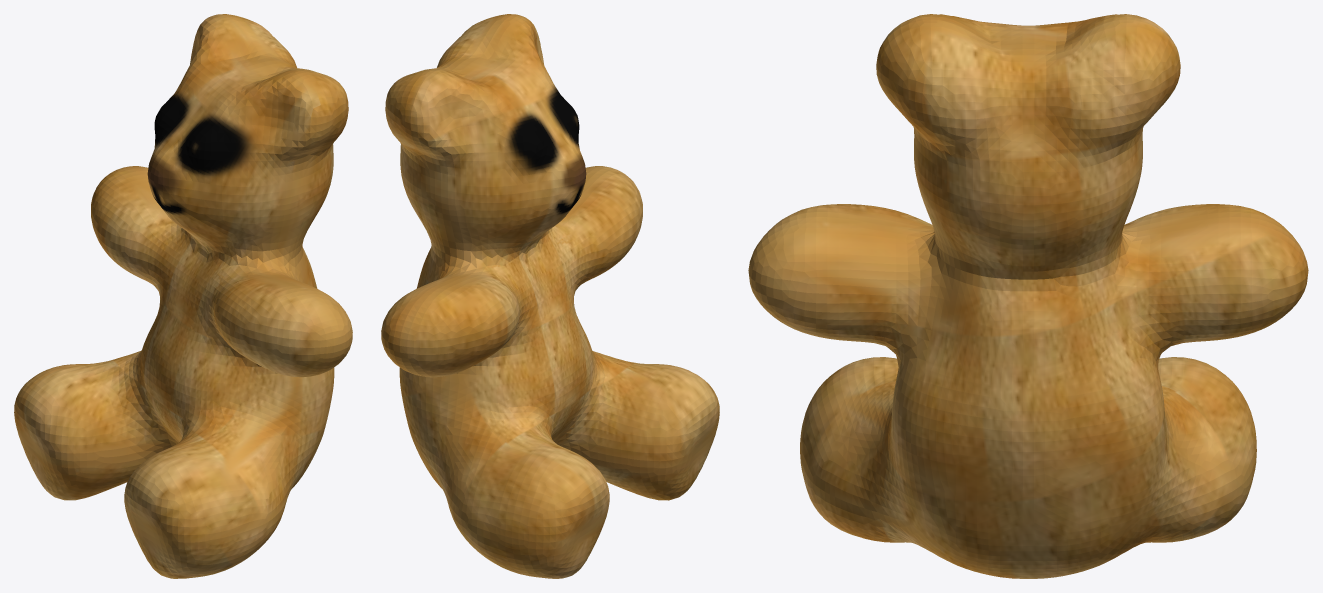
The model's file is teddy.glb.
The picture shows the model from 3 angles, left to right: view 1: azimuth 30°, elevation 25°; view 2: azimuth 150°, elevation 25°; view 3: azimuth 270°, elevation 25°; orthographic projection. The views are drawn at different scales.
Visible parts, largest first — view 1: Sphere_Sphere.001; view 2: Sphere_Sphere.001; view 3: Sphere_Sphere.001.
Boxes of the visible parts, left/top/right/bottom form: Sphere_Sphere.001: left=14, top=14, right=352, bottom=578; Sphere_Sphere.001: left=381, top=14, right=719, bottom=578; Sphere_Sphere.001: left=748, top=14, right=1308, bottom=578.
Bounding box in the file's own units: 3.12 × 5.66 × 4.87.
1 material, 1 textured.
